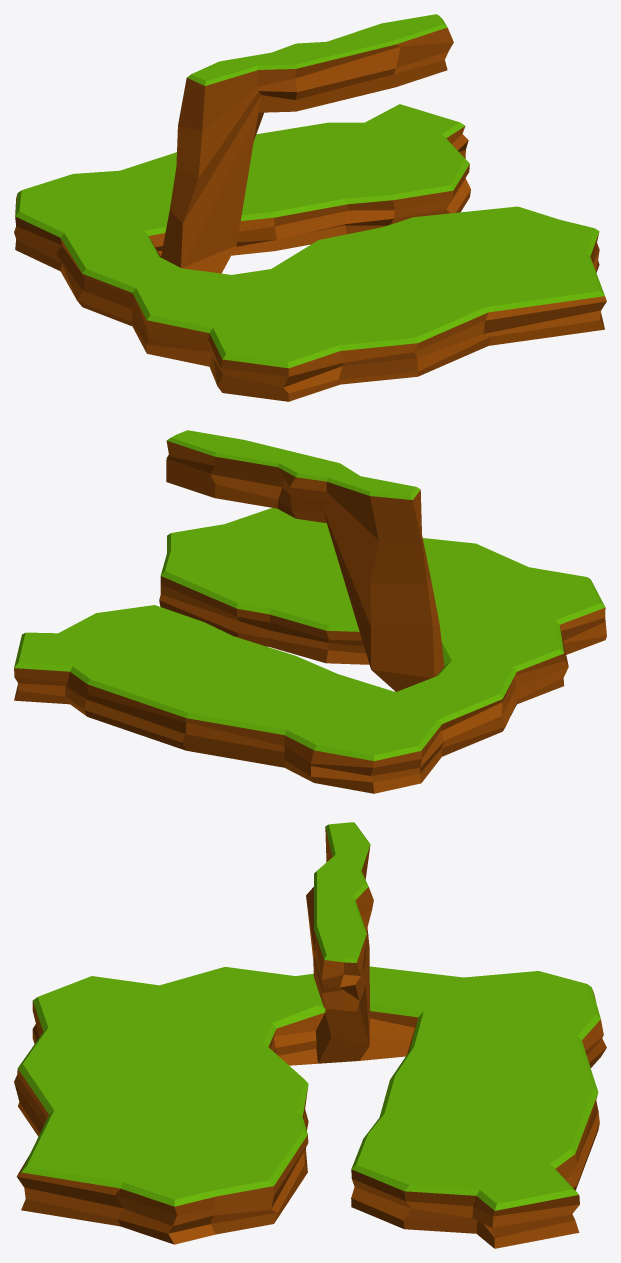
The model's file is land_special_02.fbx.
3 renders of one model, top to bottom at view 1: azimuth 30°, elevation 25°; view 2: azimuth 150°, elevation 25°; view 3: azimuth 270°, elevation 25°, orthographic. The views are drawn at different scales.
Visible parts, largest first — view 1: Plane.009; view 2: Plane.009; view 3: Plane.009.
Boxes of the visible parts, left/top/right/bottom form: Plane.009: left=14, top=14, right=606, bottom=401; Plane.009: left=14, top=430, right=606, bottom=793; Plane.009: left=14, top=822, right=606, bottom=1248.
Bounding box in the file's own units: 1812 × 828 × 1847.
Materials: 1 (1 with a texture image).
